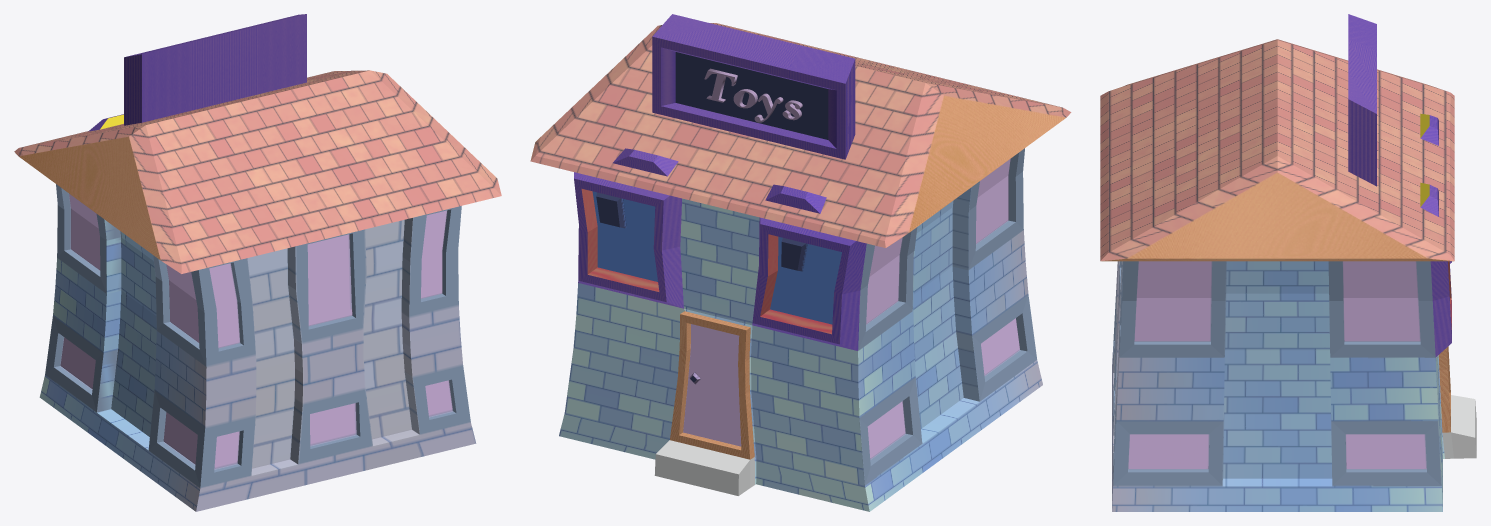
Rendered from Shop Thin.fbx.
The picture shows the model from 3 angles, left to right: view 1: azimuth 30°, elevation 25°; view 2: azimuth 150°, elevation 25°; view 3: azimuth 270°, elevation 25°; orthographic projection. The views are drawn at different scales.
Visible parts, largest first — view 1: Shop Thin; view 2: Shop Thin; view 3: Shop Thin.
Part boxes in pixels (bbox=[...]): Shop Thin: bbox=[14, 14, 501, 511]; Shop Thin: bbox=[530, 14, 1071, 511]; Shop Thin: bbox=[1100, 14, 1476, 511].
Size of the model in its own units: 249 by 255 by 227.
